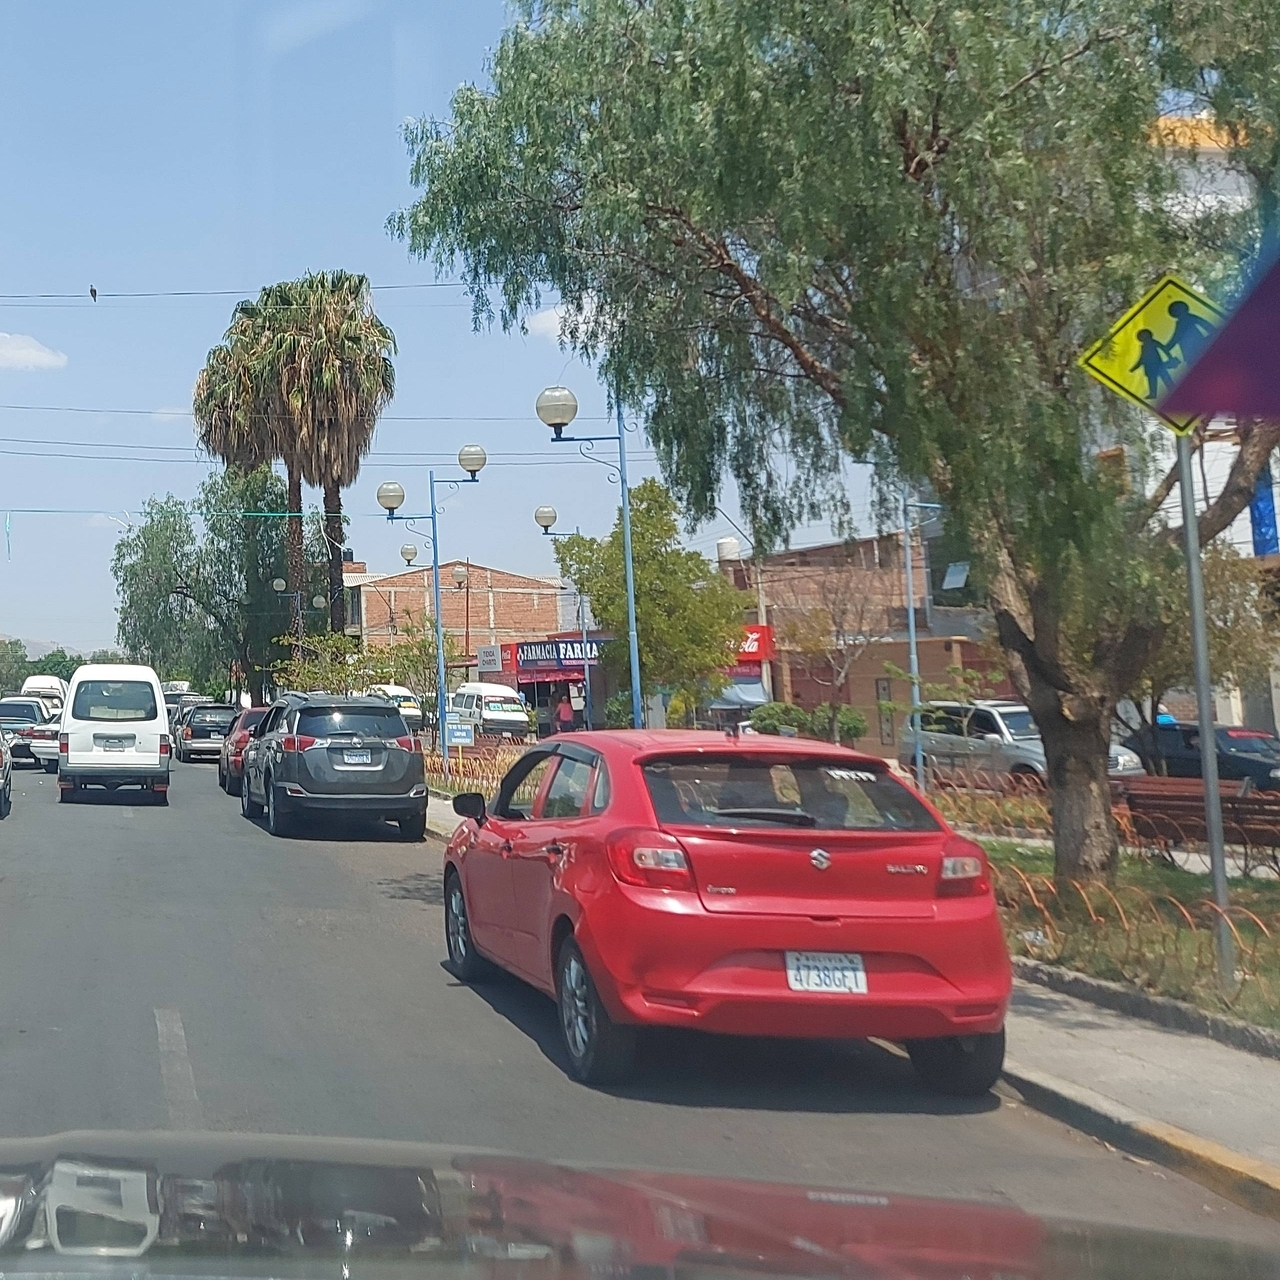zona-escolar: (1073, 275, 1264, 438)
